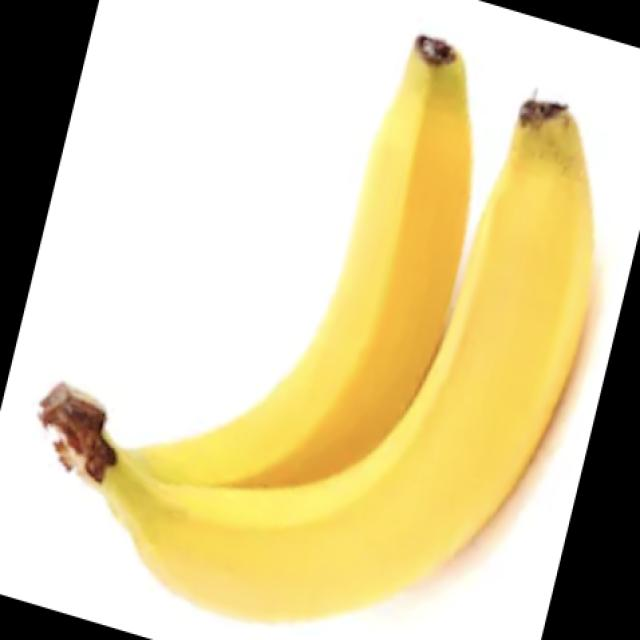god quality banana: (40, 36, 593, 620)
